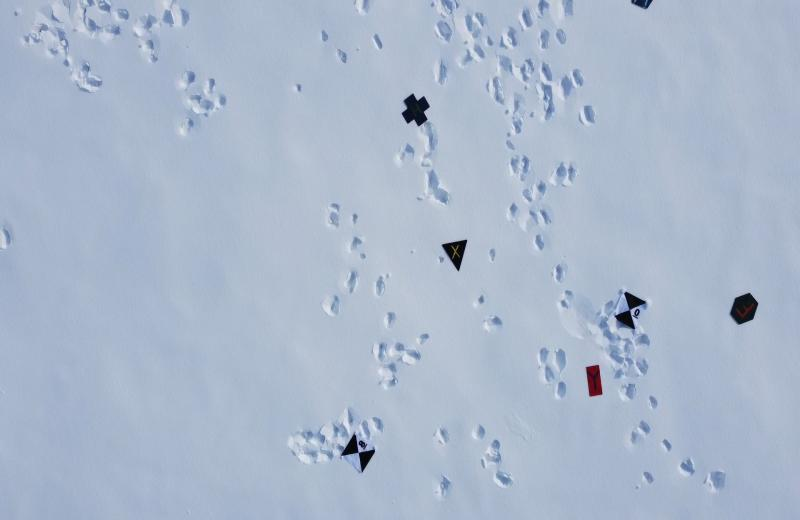Cross: (401, 91, 431, 132)
Hexagon: (726, 289, 760, 328)
Pentagon: (629, 0, 660, 16)
Rectangle: (583, 361, 605, 404)
Triangle: (438, 236, 470, 275)
